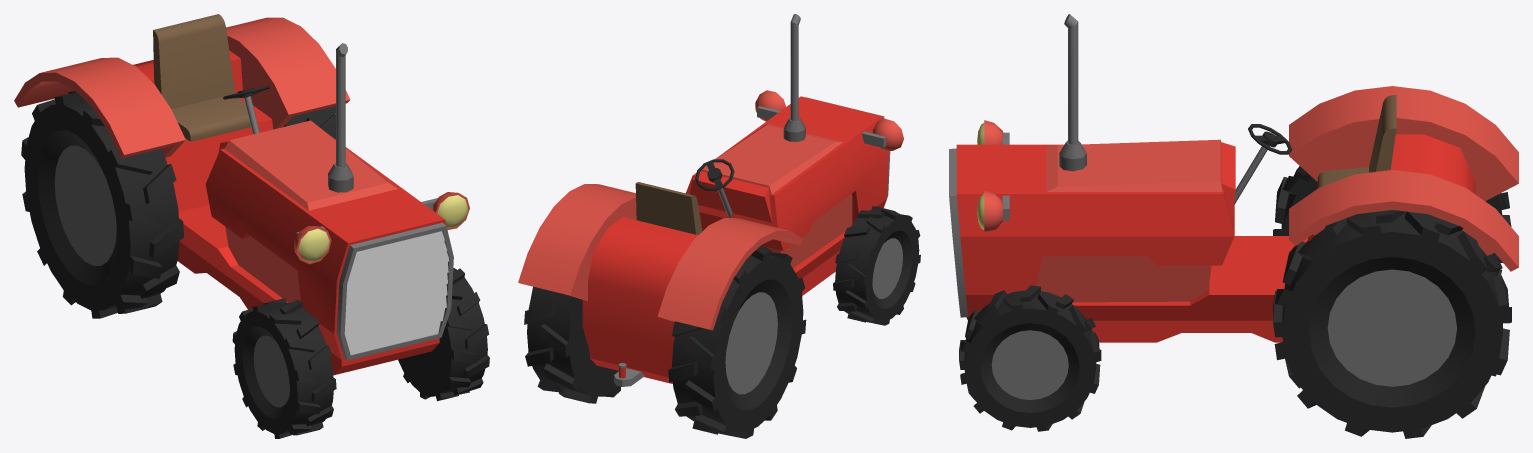
The model's file is Tractor_01_02.fbx.
The picture shows the model from 3 angles, left to right: view 1: azimuth 30°, elevation 25°; view 2: azimuth 150°, elevation 25°; view 3: azimuth 270°, elevation 25°; orthographic projection. The views are drawn at different scales.
Parts seen in each view (by area): view 1: Tractor_01_02, Tractor_01_02_Stearing_Wheel; view 2: Tractor_01_02, Tractor_01_02_Stearing_Wheel; view 3: Tractor_01_02, Tractor_01_02_Stearing_Wheel.
Boxes of the visible parts, x1=… form: Tractor_01_02: x1=14, y1=14, x2=489, y2=438; Tractor_01_02_Stearing_Wheel: x1=223, y1=85, x2=269, y2=134; Tractor_01_02: x1=518, y1=14, x2=920, y2=438; Tractor_01_02_Stearing_Wheel: x1=695, y1=159, x2=734, y2=217; Tractor_01_02: x1=949, y1=14, x2=1518, y2=438; Tractor_01_02_Stearing_Wheel: x1=1234, y1=124, x2=1292, y2=204.
Size of the model in its own units: 222 by 332 by 463.
